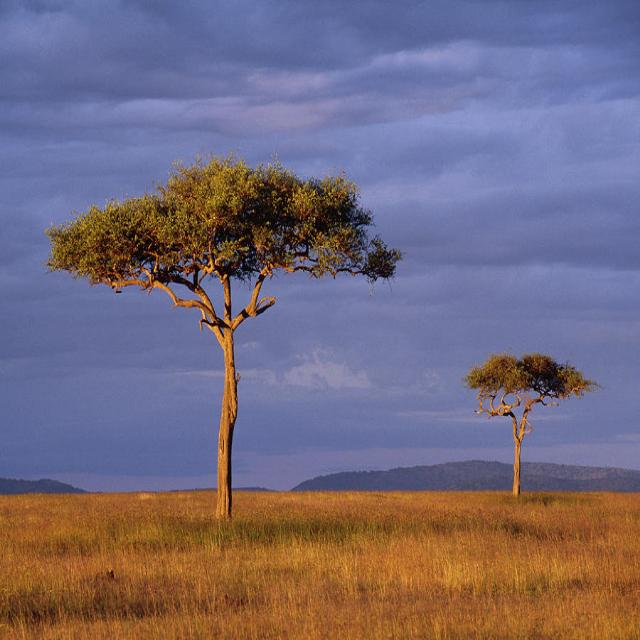Acacia: (43, 149, 399, 505), (457, 332, 590, 494)
